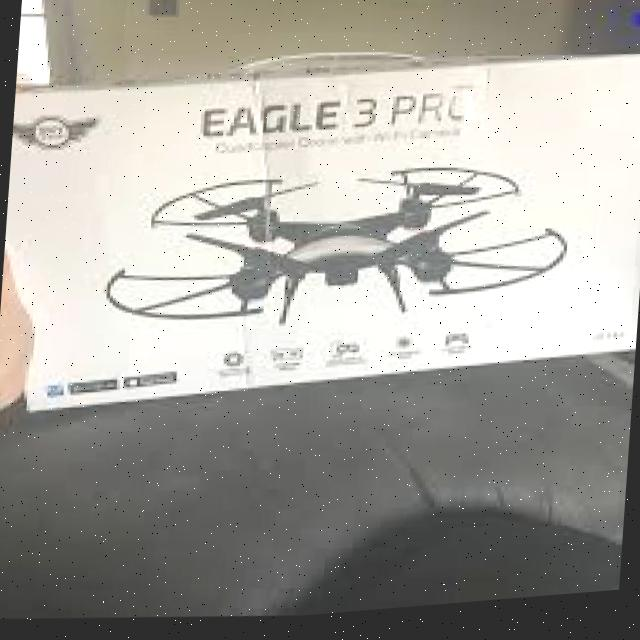drone: (98, 137, 588, 370)
